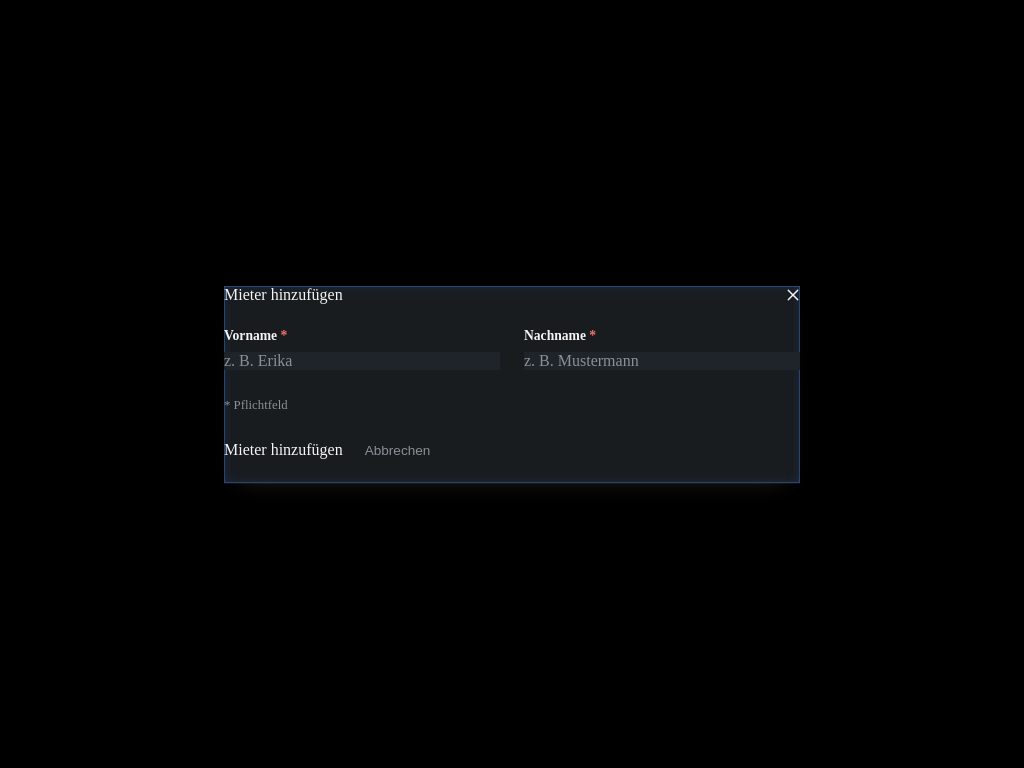
Scenario: TenantFormDialog › stays open and shows an error when saving fails
Type "Max" into the field with id "tenant-first-name" at (362,360), box [224,352,500,370]
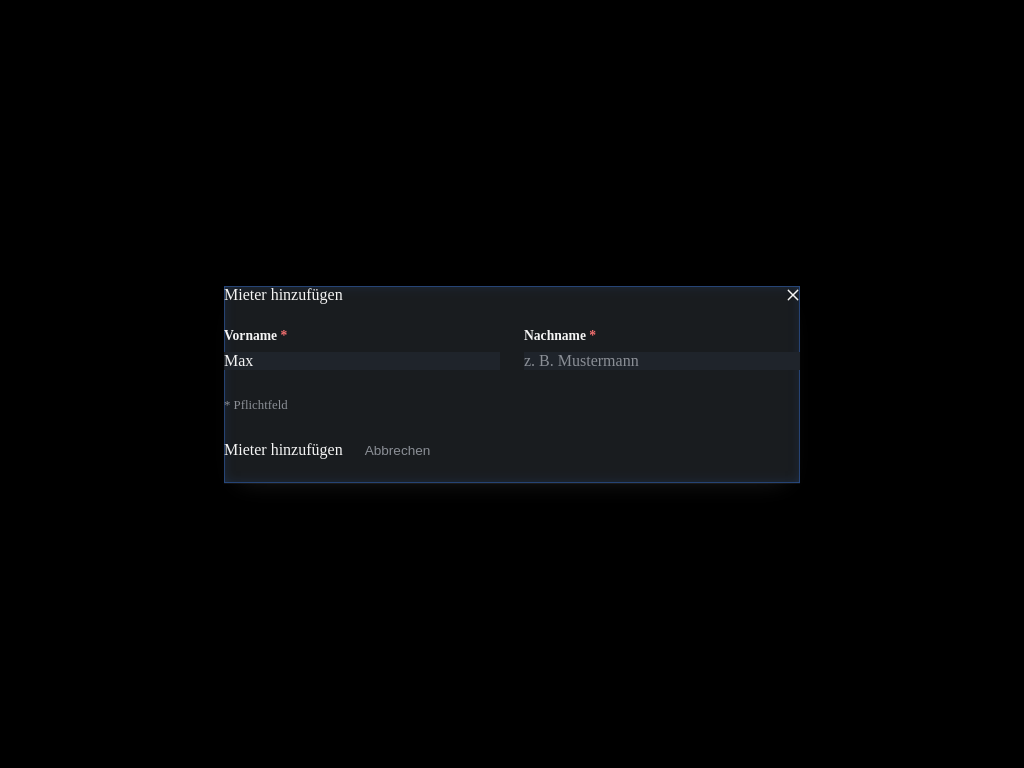
Type "Mustermann" into the field with id "tenant-last-name" at (662,360), box [524,352,800,370]
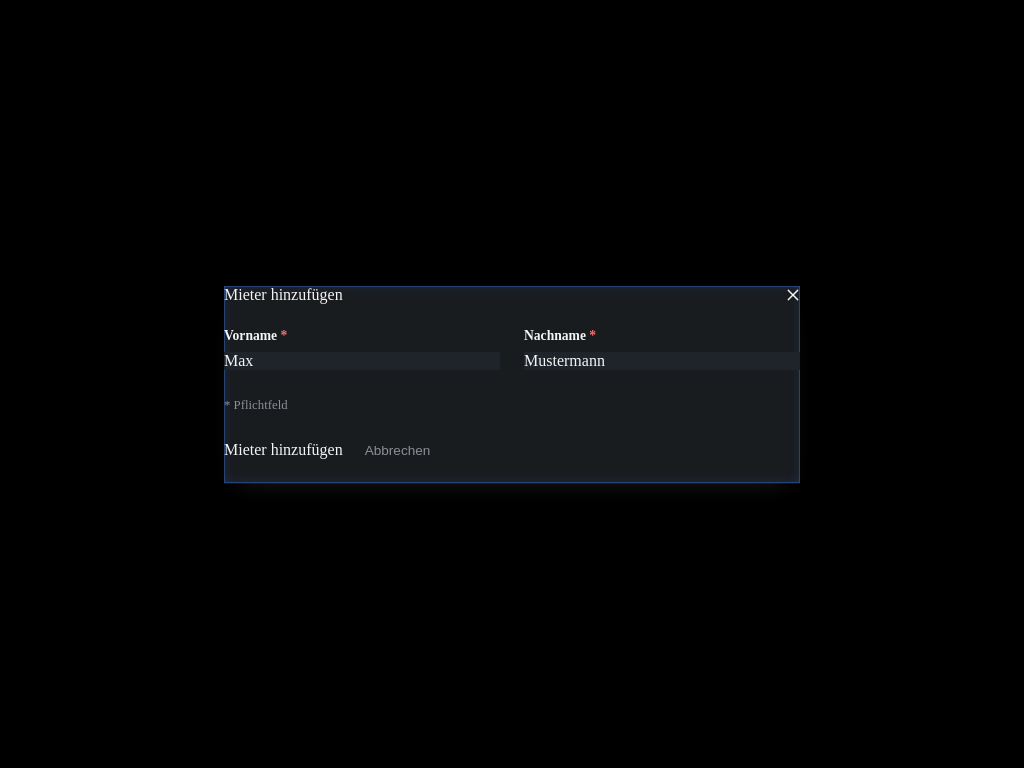
Click the button "Mieter hinzufügen" at (283,450), box [224,440,343,458]
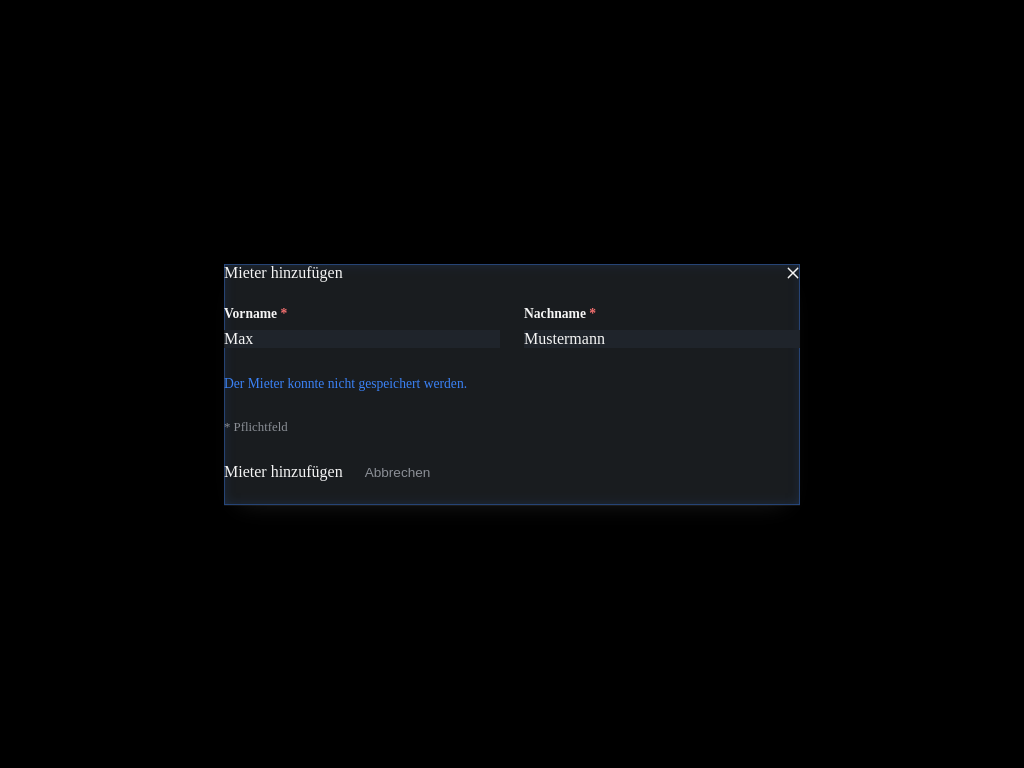
Expected: the text with class "tenant-form-dialog__error" reads "Der Mieter konnte nicht gespeichert werden.", [224,376,467,390]
